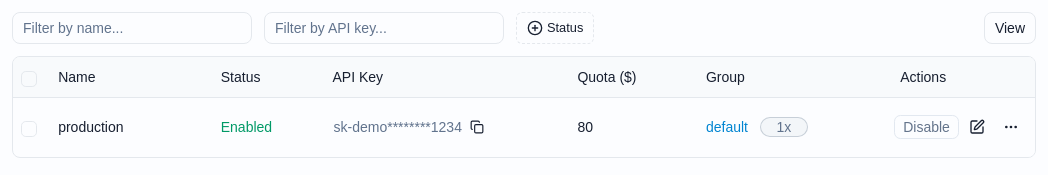
Test: clears the name and key filters when reset is clicked
Expected: the text "production" is shown, [58, 119, 124, 135]
Type "prod" into the field with placeholder "Filter by name..." at (132, 28), box [12, 12, 252, 44]
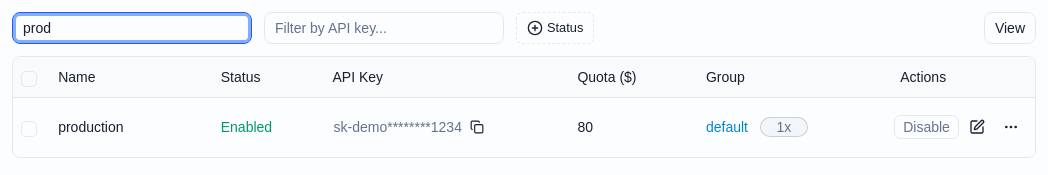
Type "sk-live" into the field labelled "Filter by API key..." at (384, 28), box [264, 12, 504, 44]
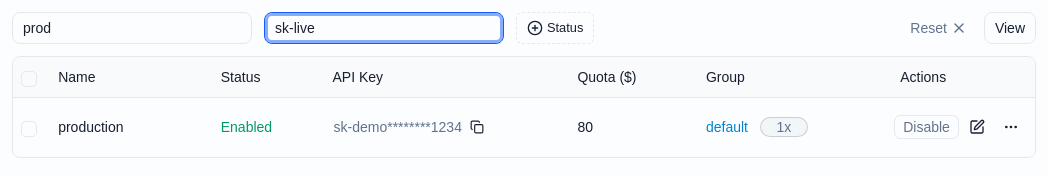
Click the button "Reset" at (939, 28), box [901, 12, 976, 44]
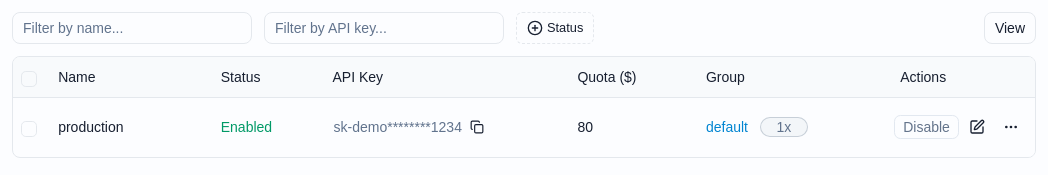
Expected: the field with placeholder "Filter by name..." is empty, [12, 12, 252, 44]
Expected: the field labelled "Filter by API key..." is empty, [264, 12, 504, 44]
